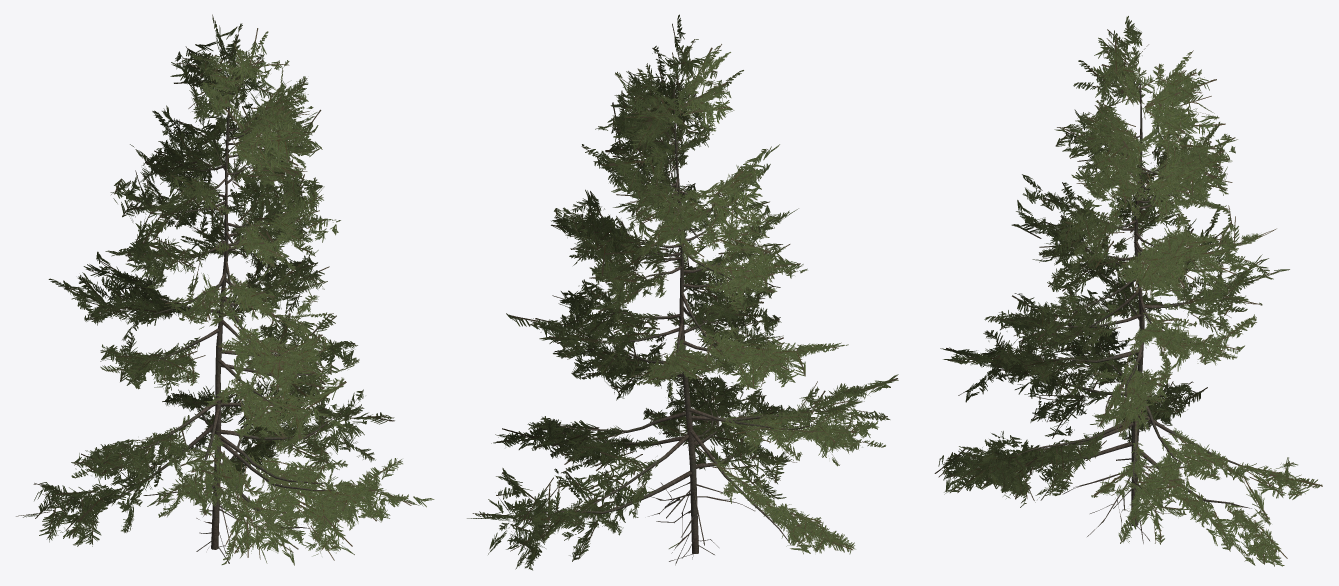
3 renders of one model, left to right at view 1: azimuth 30°, elevation 25°; view 2: azimuth 150°, elevation 25°; view 3: azimuth 270°, elevation 25°, orthographic. The views are drawn at different scales.
Visible parts, largest first — view 1: fir_sapling_medium__c_lod1; view 2: fir_sapling_medium__c_lod1; view 3: fir_sapling_medium__c_lod1.
Part boxes in pixels (x1,y1,x2,y2): fir_sapling_medium__c_lod1: (16, 14, 434, 565); fir_sapling_medium__c_lod1: (467, 14, 898, 570); fir_sapling_medium__c_lod1: (934, 16, 1322, 566).
Bounding box in the file's own units: 4.31 × 5.92 × 4.05.
2 materials, 2 textured.
